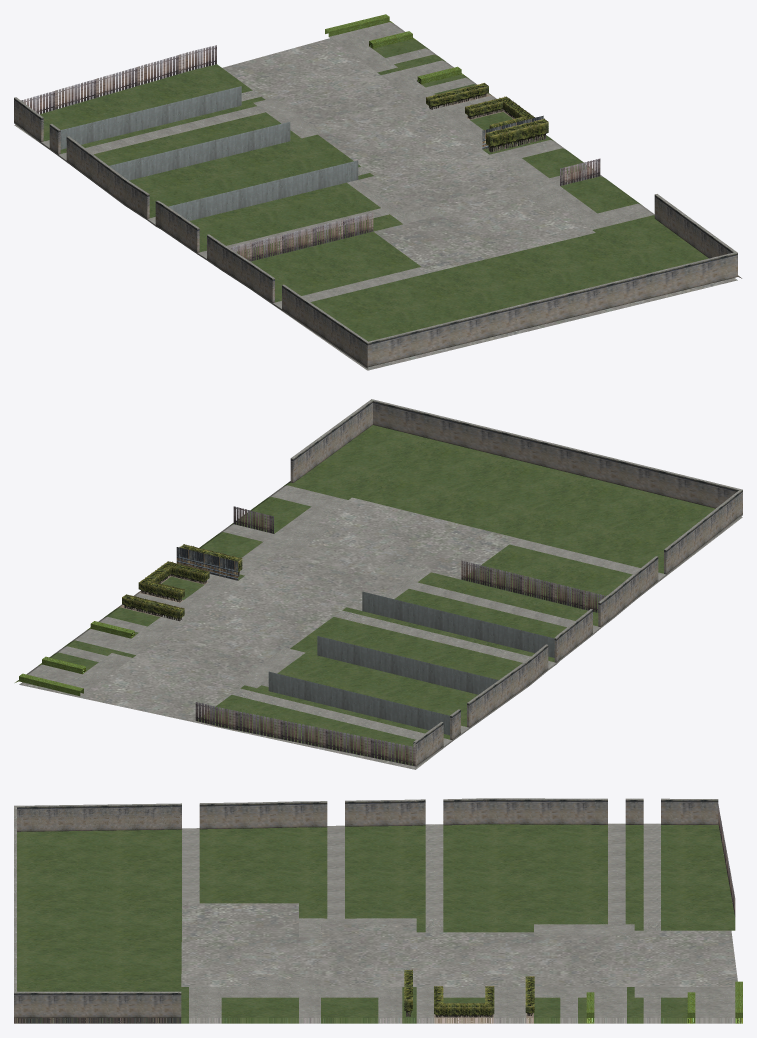
File: oc_flats_gnd03_sfs.obj
The picture shows the model from 3 angles, top to bottom: view 1: azimuth 30°, elevation 25°; view 2: azimuth 150°, elevation 25°; view 3: azimuth 270°, elevation 25°; orthographic projection. The views are drawn at different scales.
Visible parts, largest first — view 1: OC_FLATS_GND03_SFS; view 2: OC_FLATS_GND03_SFS; view 3: OC_FLATS_GND03_SFS.
Part boxes in pixels (<box>): OC_FLATS_GND03_SFS: <box>14,14,741,370</box>; OC_FLATS_GND03_SFS: <box>15,399,742,769</box>; OC_FLATS_GND03_SFS: <box>14,798,742,1023</box>.
Bounding box in the file's own units: 39.75 × 2.67 × 62.09.
9 materials, 9 textured.
